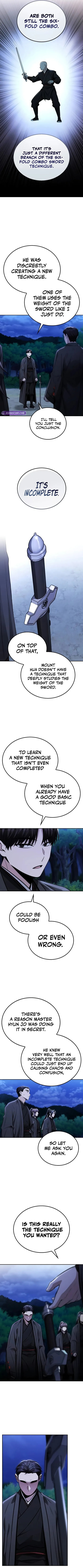bubbles: (1, 997, 82, 1087), (3, 244, 81, 336), (2, 736, 81, 826), (7, 631, 77, 700), (7, 893, 75, 961), (12, 1205, 71, 1260), (13, 133, 71, 182), (16, 0, 72, 43), (16, 466, 68, 510), (29, 401, 67, 441), (38, 1130, 79, 1166)
